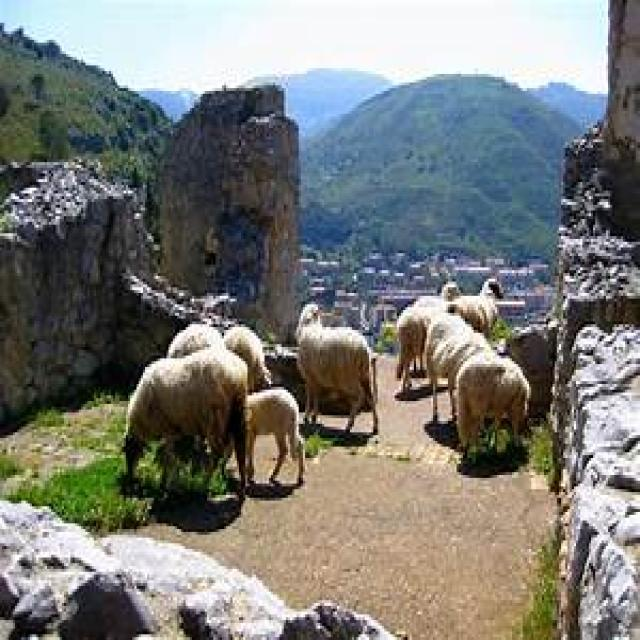animal: (121, 344, 248, 498), (294, 302, 378, 435), (422, 310, 493, 424), (452, 353, 531, 455), (243, 384, 305, 486), (439, 276, 504, 336), (222, 324, 271, 393), (166, 322, 222, 358)
